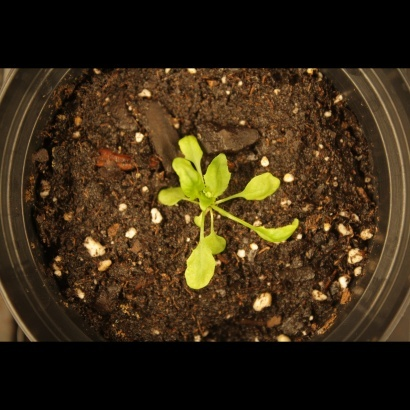leaf: (181, 240, 216, 299), (251, 213, 306, 250), (202, 148, 236, 200), (239, 172, 290, 206), (170, 151, 204, 202), (153, 183, 194, 212), (178, 131, 208, 168), (203, 229, 227, 259)
